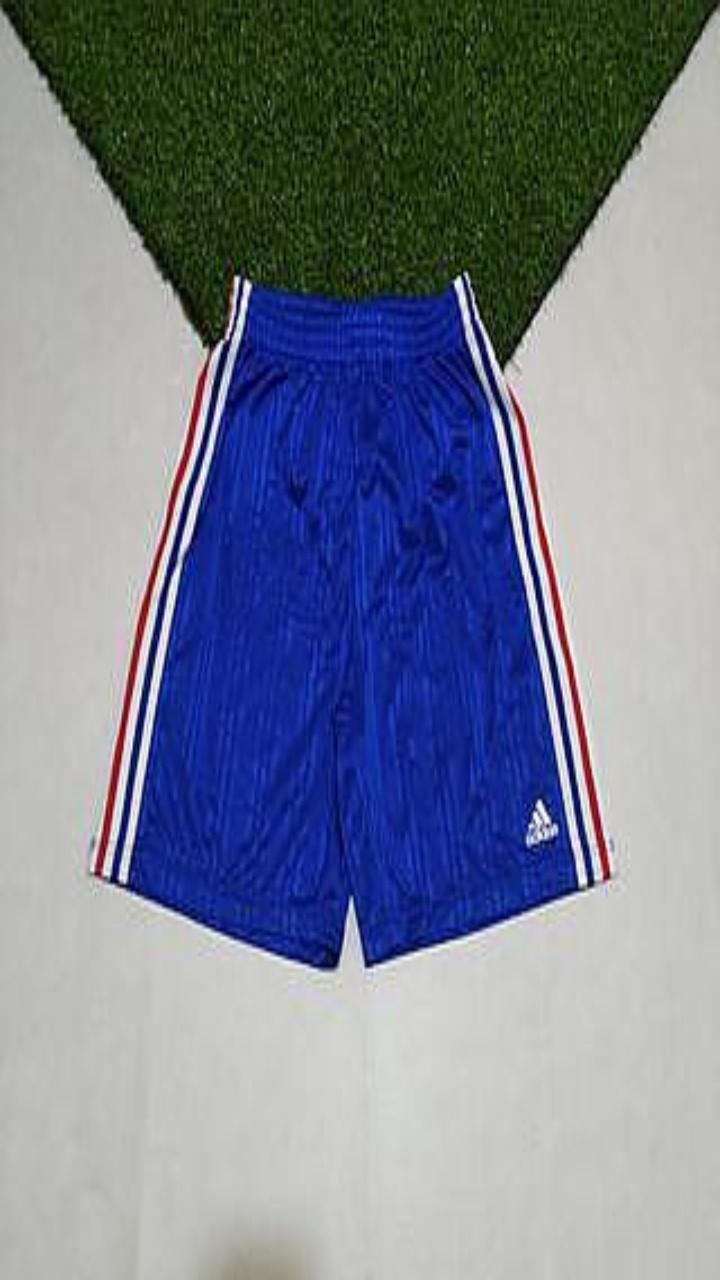Shorts: (89, 273, 611, 966)
